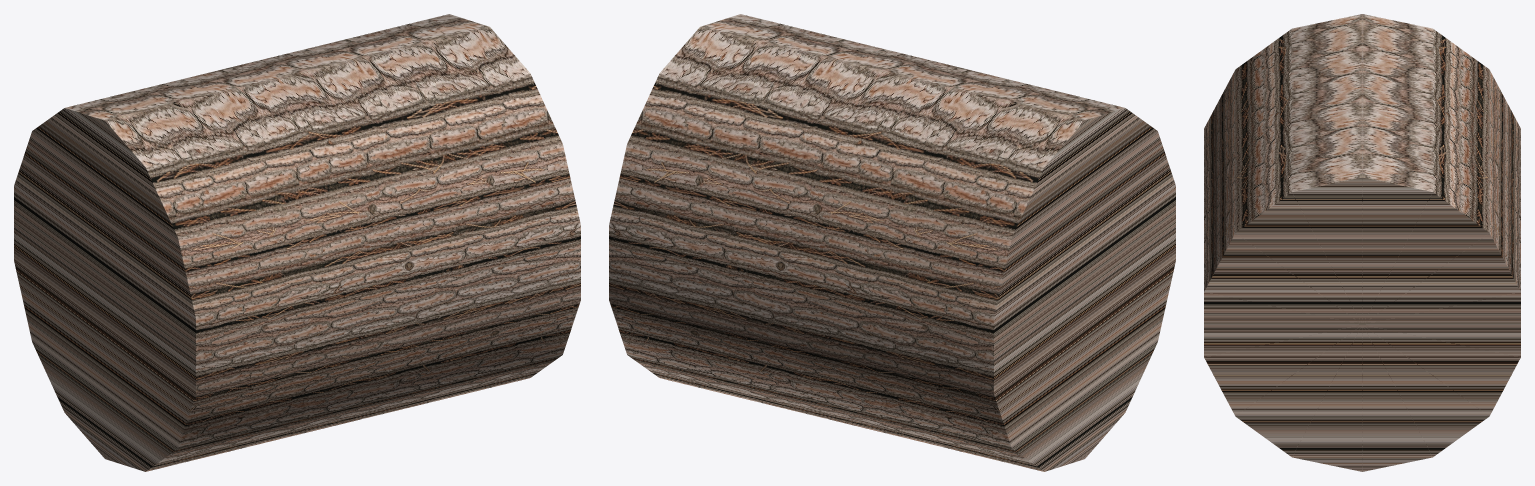
Rendered from pinelogh.glb.
The picture shows the model from 3 angles, left to right: view 1: azimuth 30°, elevation 25°; view 2: azimuth 150°, elevation 25°; view 3: azimuth 270°, elevation 25°; orthographic projection. The views are drawn at different scales.
Visible parts, largest first — view 1: Birch_Log_H_Birch; view 2: Birch_Log_H_Birch; view 3: Birch_Log_H_Birch.
Boxes of the visible parts, <box> form: Birch_Log_H_Birch: <box>14,14,580,471</box>; Birch_Log_H_Birch: <box>609,14,1175,471</box>; Birch_Log_H_Birch: <box>1204,14,1520,471</box>.
Size of the model in its own units: 1 by 0.84 by 0.8189.
Materials: 1 (1 with a texture image).
